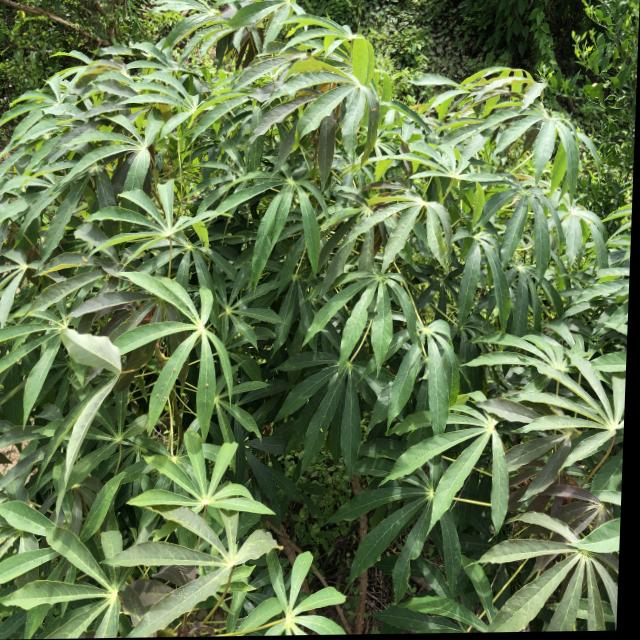Mosca: (149, 384, 168, 404), (72, 251, 94, 268), (200, 377, 215, 394), (317, 421, 329, 438), (169, 365, 181, 379)
